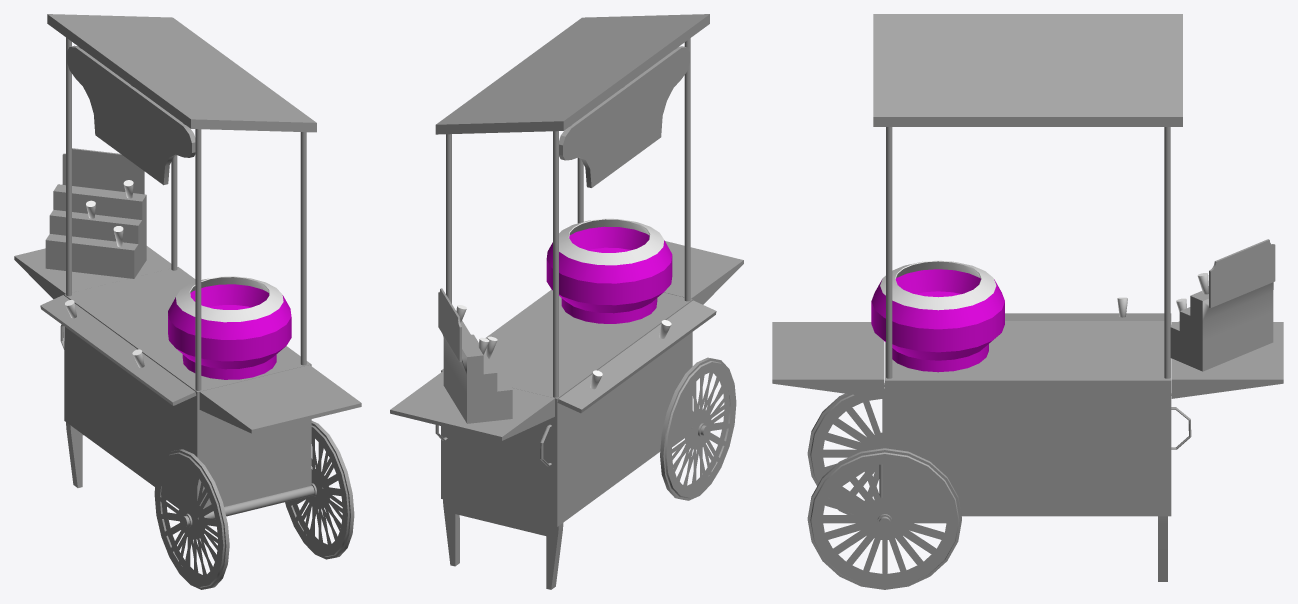
File: CottonCandy_proxy.fbx
The picture shows the model from 3 angles, left to right: view 1: azimuth 30°, elevation 25°; view 2: azimuth 150°, elevation 25°; view 3: azimuth 270°, elevation 25°; orthographic projection. The views are drawn at different scales.
Parts seen in each view (by area): view 1: CCstandFrame, Headboard, Candy_floss_Holder, CottonCandyMachine, Sign, Wheel2, CCstandEdge2, Wheel1, treat_holder, CCstandEdge1, HBPole2, HBPole3 (+4 smaller); view 2: CCstandFrame, Headboard, CottonCandyMachine, Sign, Wheel2, Candy_floss_Holder, CCstandEdge1, treat_holder, Legs, CCstandEdge2, HBPole2, HBPole1 (+1 smaller); view 3: CCstandFrame, Headboard, Wheel1, CottonCandyMachine, Candy_floss_Holder, CCstandEdge2, Wheel2, CCstandEdge1, HBPole3, HBPole4, treat_holder, Legs.
Part boxes in pixels (bbox=[...]): CCstandFrame: bbox=[64, 267, 311, 508]; Headboard: bbox=[47, 14, 316, 132]; Candy_floss_Holder: bbox=[45, 148, 146, 278]; CottonCandyMachine: bbox=[168, 276, 291, 379]; Sign: bbox=[67, 45, 195, 185]; Wheel2: bbox=[154, 449, 229, 589]; CCstandEdge2: bbox=[199, 365, 361, 433]; Wheel1: bbox=[285, 421, 354, 559]; treat_holder: bbox=[40, 295, 196, 405]; CCstandEdge1: bbox=[14, 246, 171, 299]; HBPole2: bbox=[195, 129, 201, 390]; HBPole3: bbox=[300, 132, 306, 365]; CCstandFrame: bbox=[441, 289, 692, 526]; Headboard: bbox=[435, 14, 709, 134]; CottonCandyMachine: bbox=[546, 218, 672, 323]; Sign: bbox=[559, 46, 689, 187]; Wheel2: bbox=[660, 357, 736, 500]; Candy_floss_Holder: bbox=[438, 288, 512, 423]; CCstandEdge1: bbox=[390, 371, 554, 440]; treat_holder: bbox=[557, 300, 716, 413]; Legs: bbox=[443, 499, 563, 589]; CCstandEdge2: bbox=[664, 241, 743, 304]; HBPole2: bbox=[684, 38, 690, 301]; HBPole1: bbox=[553, 131, 558, 397]; CCstandFrame: bbox=[885, 320, 1171, 516]; Headboard: bbox=[873, 14, 1182, 126]; Wheel1: bbox=[807, 448, 961, 589]; CottonCandyMachine: bbox=[871, 260, 1004, 372]; Candy_floss_Holder: bbox=[1170, 239, 1275, 371]; CCstandEdge2: bbox=[772, 322, 884, 398]; Wheel2: bbox=[807, 383, 884, 514]; CCstandEdge1: bbox=[1171, 322, 1283, 398]; HBPole3: bbox=[886, 127, 892, 378]; HBPole4: bbox=[1164, 127, 1170, 378]; treat_holder: bbox=[1005, 313, 1171, 320]; Legs: bbox=[1158, 516, 1167, 581].
Size of the model in its own units: 0.7772 by 2.31 by 2.11.
